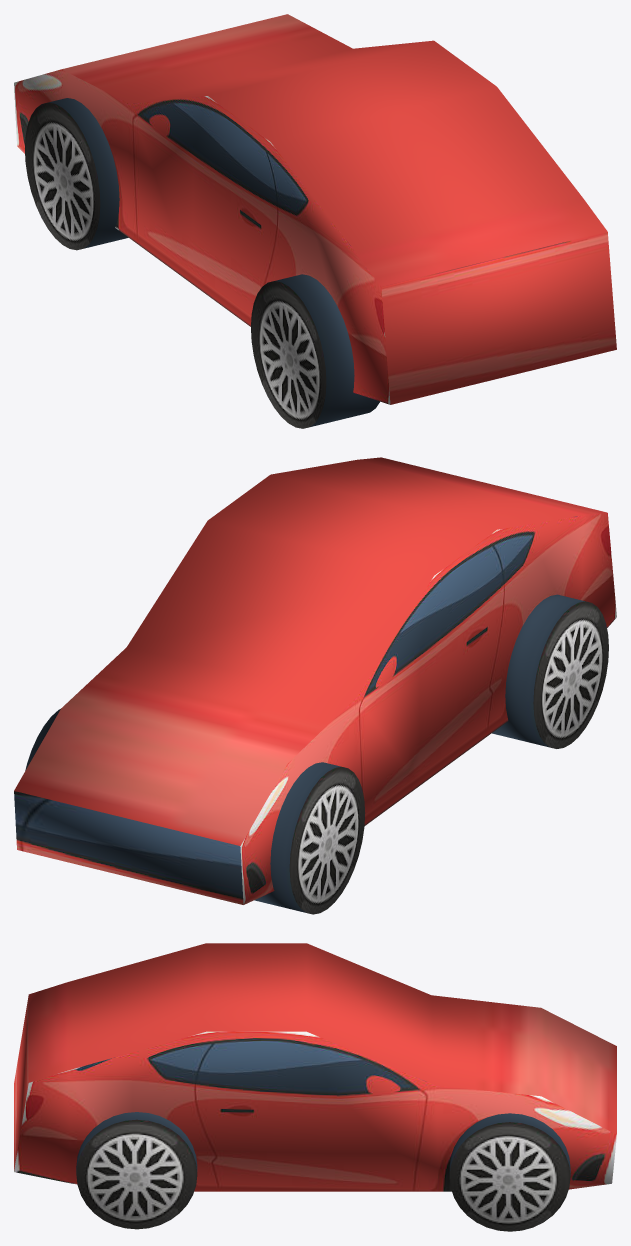
Rendered from CarUVModelMap.glb.
The picture shows the model from 3 angles, top to bottom: view 1: azimuth 30°, elevation 25°; view 2: azimuth 150°, elevation 25°; view 3: azimuth 270°, elevation 25°; orthographic projection. The views are drawn at different scales.
Parts seen in each view (by area): view 1: Car, Wheel; view 2: Car, Wheel; view 3: Car, Wheel.
Boxes of the visible parts, bbox=[...] form: Car: bbox=[14, 14, 616, 404]; Wheel: bbox=[25, 98, 379, 428]; Car: bbox=[14, 457, 616, 904]; Wheel: bbox=[25, 594, 608, 914]; Car: bbox=[14, 943, 616, 1191]; Wheel: bbox=[76, 1112, 570, 1231].
Size of the model in its own units: 1.9 by 1.58 by 4.48.
2 materials, 2 textured.
